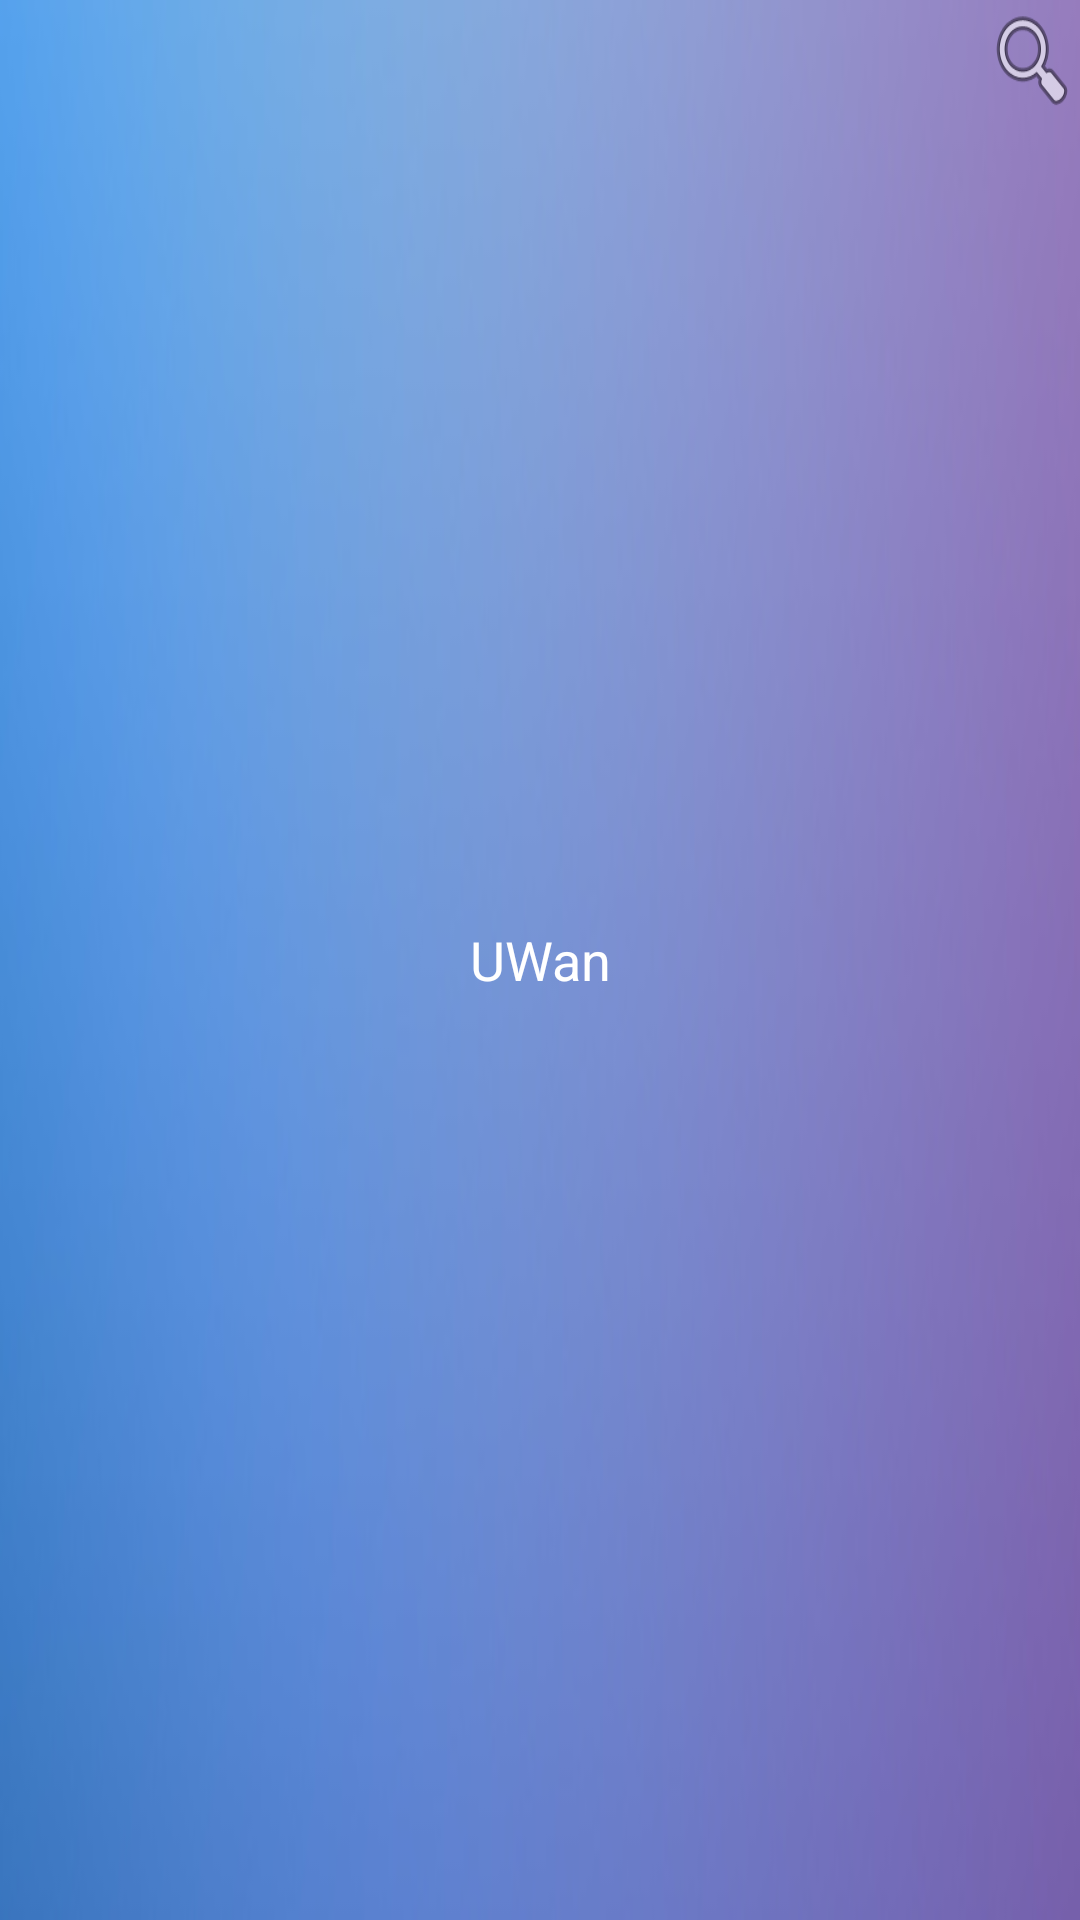

Icons on this 1080 x 1920 Android screen, each with its box as (x1, y1, x2, y2):
search: (997, 16, 1067, 105)
